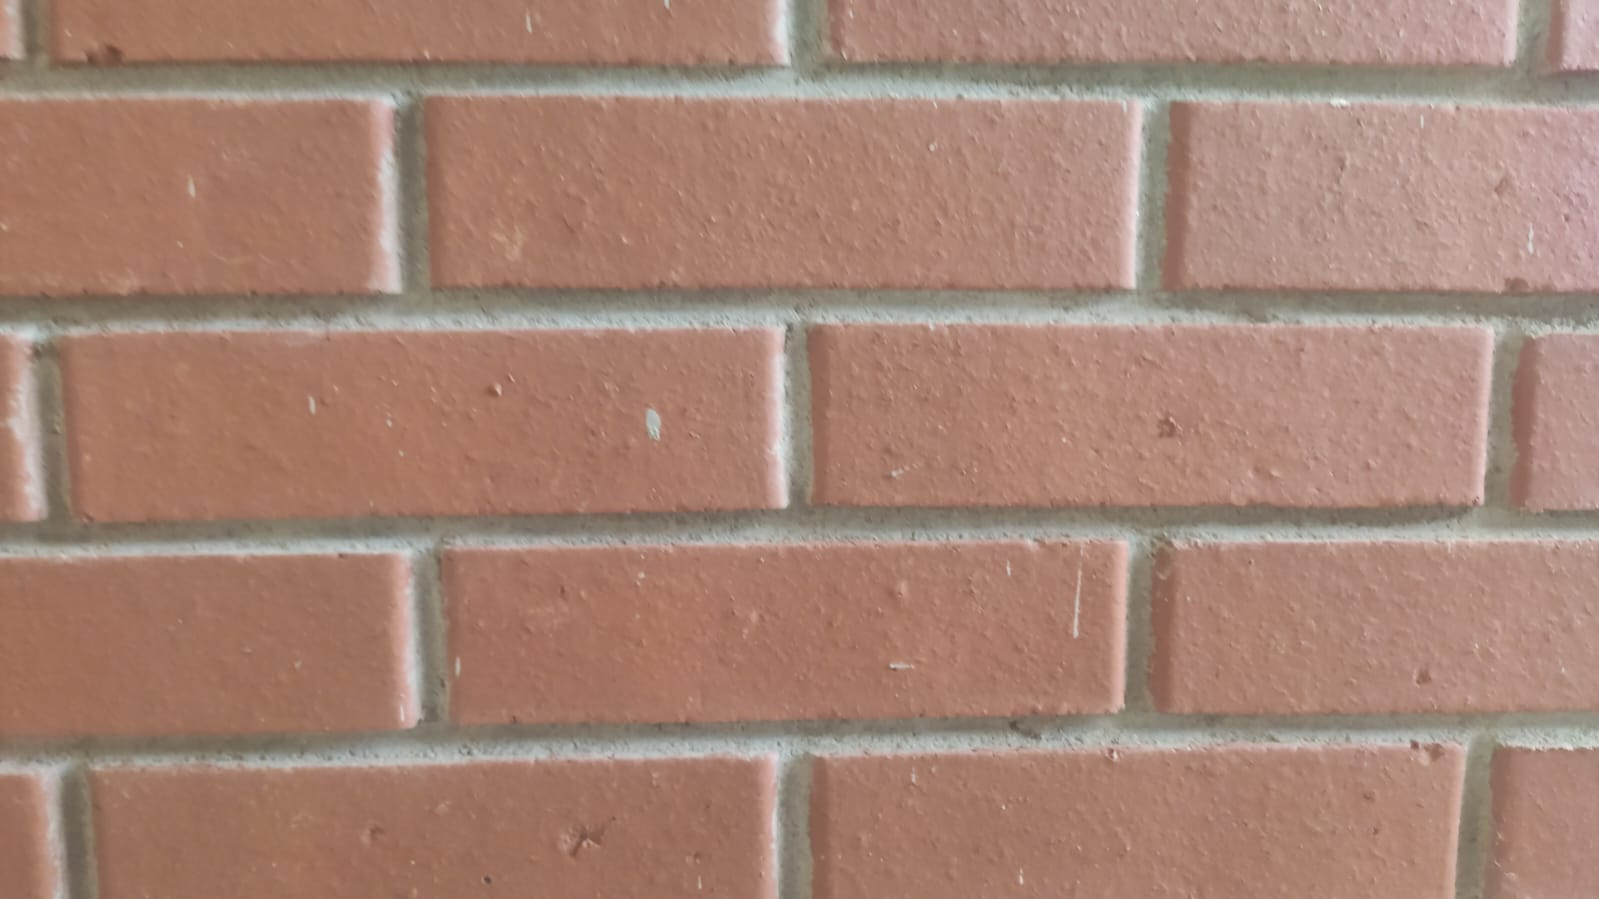redbrick: (402, 69, 1132, 296), (51, 311, 789, 522), (812, 308, 1494, 532), (400, 543, 1126, 720), (1163, 82, 1599, 329), (803, 739, 1465, 899), (77, 752, 797, 899), (1, 543, 412, 779), (1142, 522, 1599, 726), (1, 91, 405, 297)
